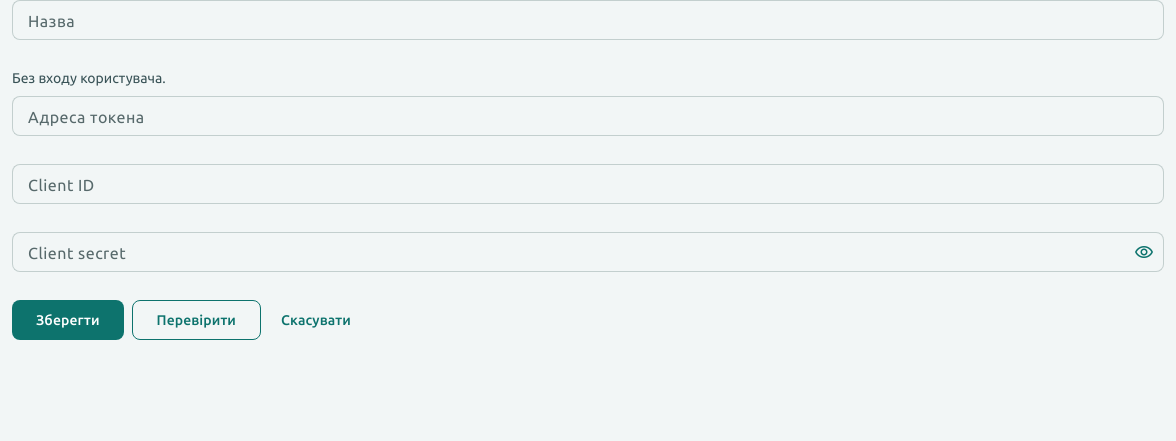
Test: CredentialFormComponent: поля за типом (F3-94) › «Перевірити» для client credentials: POST /credentials/check без збереження, результат людським текстом
The width and height of the screenshot is (1176, 441).
Step 1. Click the button with test id "credential-check" → (196, 320), box [132,300,261,340]
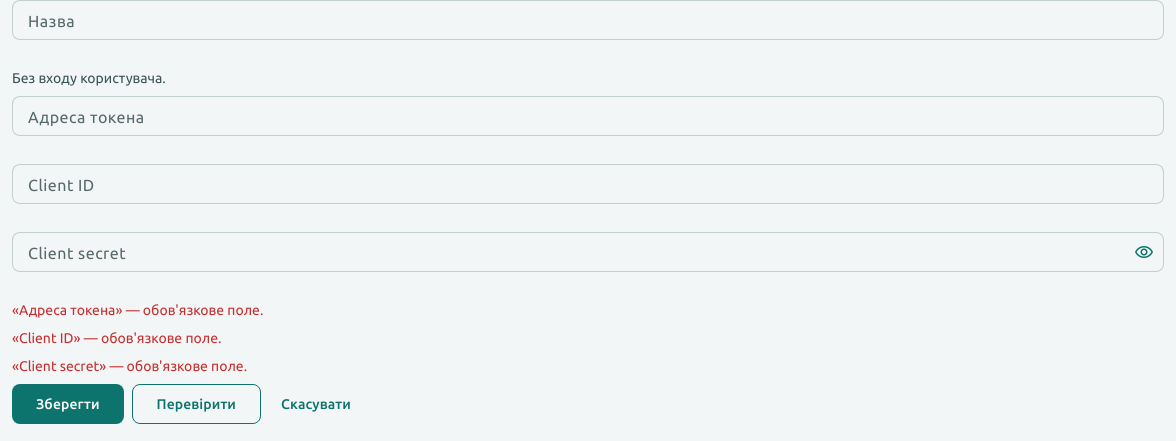
Expected: the number of messages with test id "form-error" is 3, [12,302,263,318]; [12,330,221,346]; [12,358,247,374]
Step 2. Type "https://sso.example.com/token" into the field labelled "Адреса токена" → (588, 116), box [28,104,1148,128]
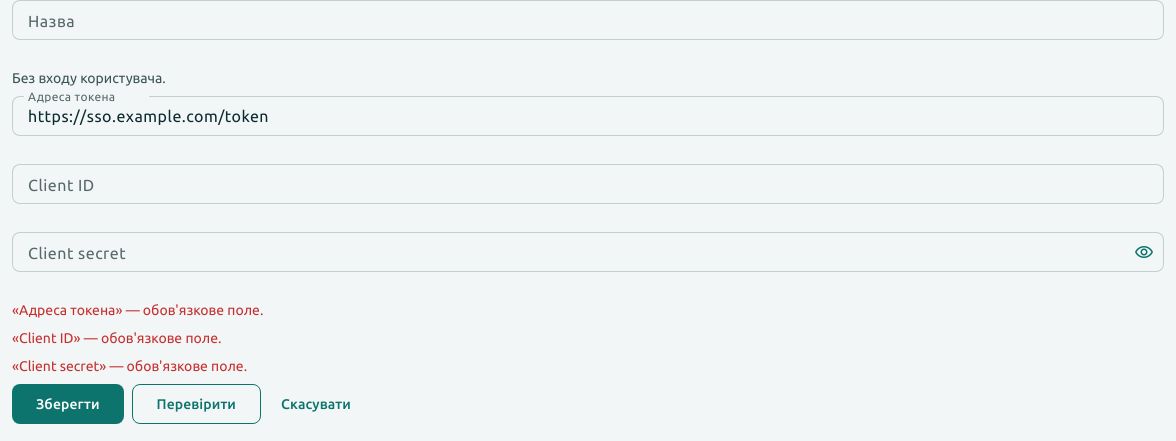
Step 3. Type "svc" into the field labelled "Client ID" → (588, 184), box [28,172,1148,196]
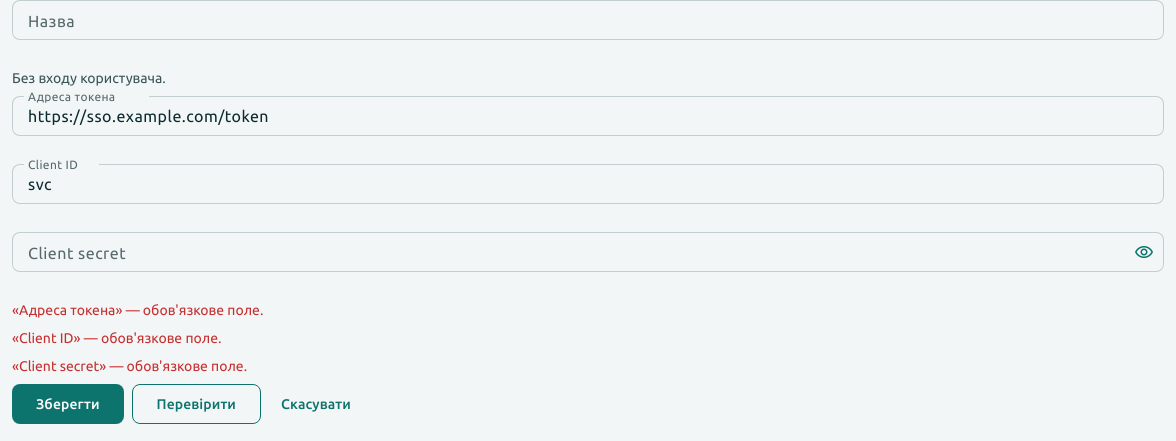
Step 4. Type "wrong" into the password field labelled "Client secret" → (574, 252), box [28,240,1120,264]
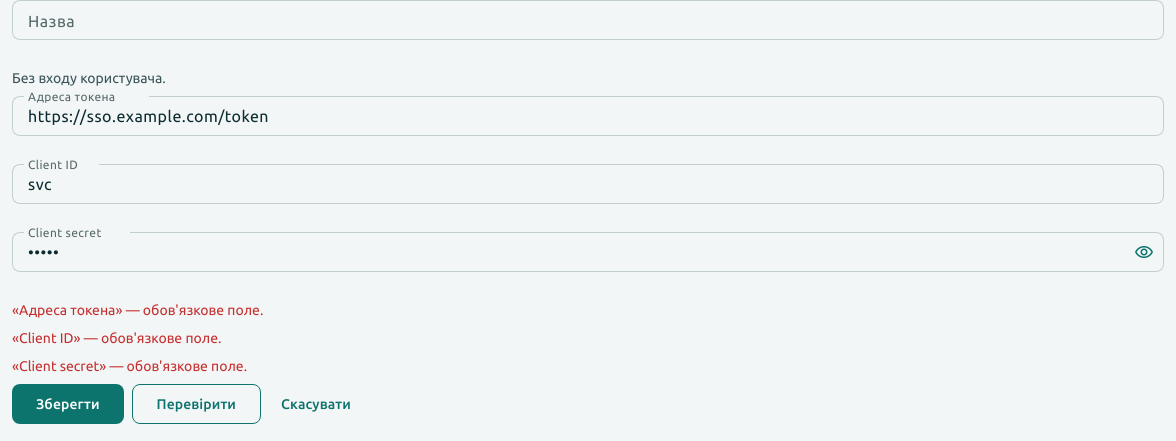
Step 5. Click the button with test id "credential-check" → (196, 404), box [132,384,261,424]
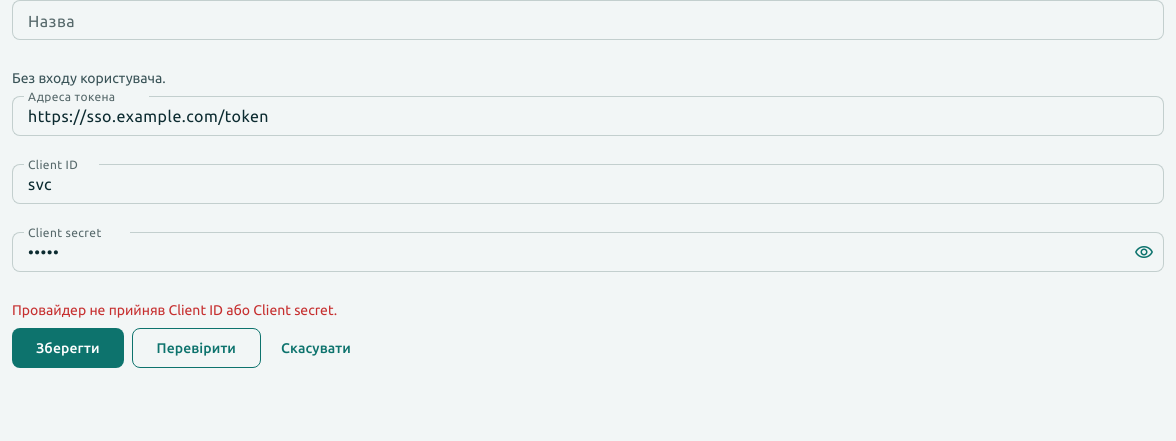
Expected: the message with test id "check-result" shows "не прийняв Client ID або Client secret", [12,302,337,318]
Step 6. Click the button with test id "credential-check" → (196, 348), box [132,328,261,368]
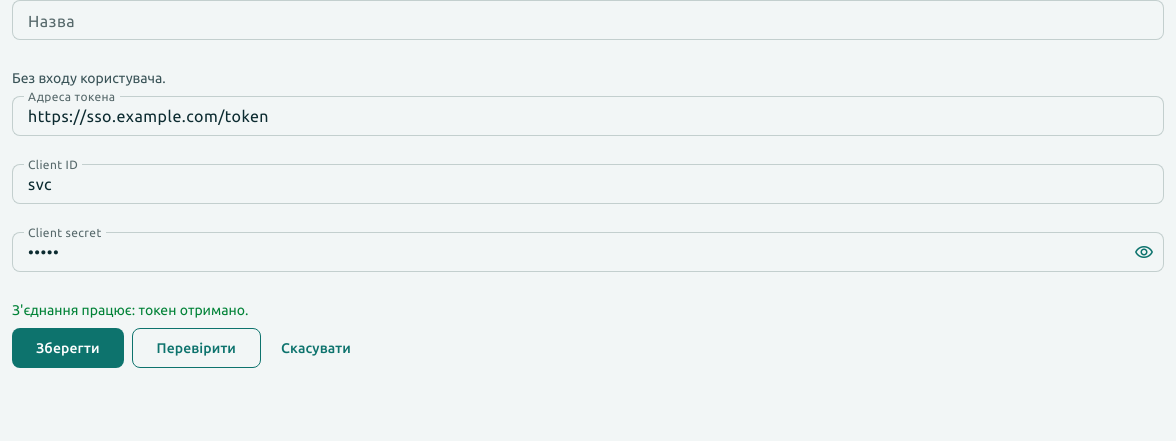
Expected: the message with test id "check-result" shows "токен отримано", [12,302,248,318]
